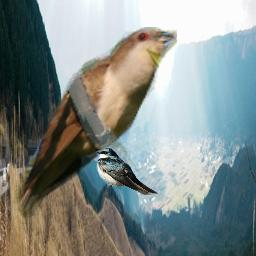Cuckoo: (10, 27, 177, 223)
Swallow: (96, 147, 158, 195)
